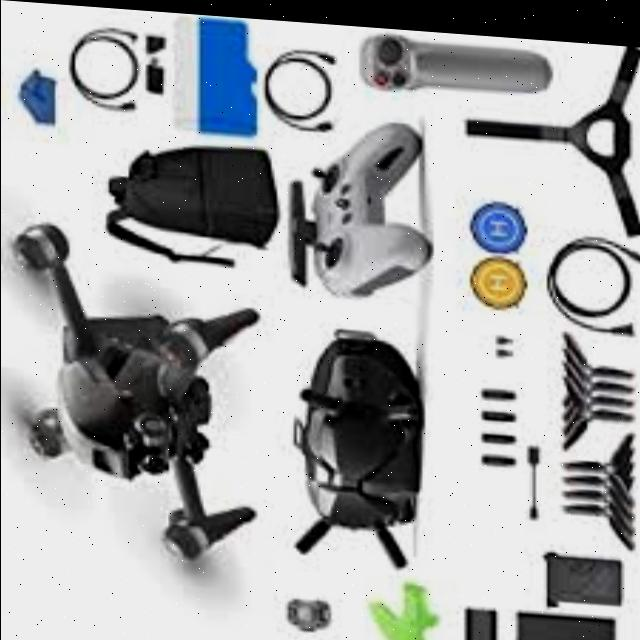drone: (1, 203, 286, 574)
